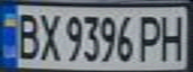3: (81, 11, 100, 63)
6: (115, 12, 139, 63)
9: (60, 11, 84, 62), (97, 12, 118, 63)
B: (9, 9, 42, 61)
H: (157, 10, 190, 62)
P: (136, 11, 166, 62)
X: (33, 9, 60, 62)
